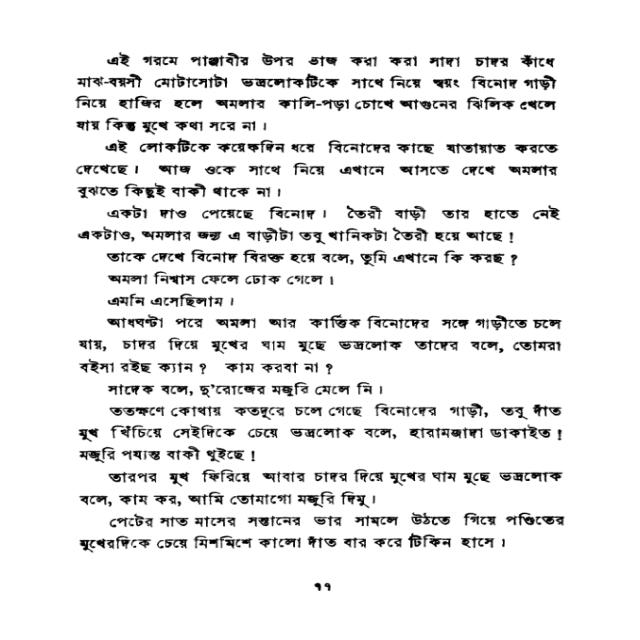page number: (310, 578, 338, 594)
paragraph: (66, 202, 570, 311), (65, 48, 564, 135), (70, 381, 566, 466), (75, 313, 573, 379), (68, 138, 565, 204), (73, 510, 574, 556), (73, 467, 571, 511)
